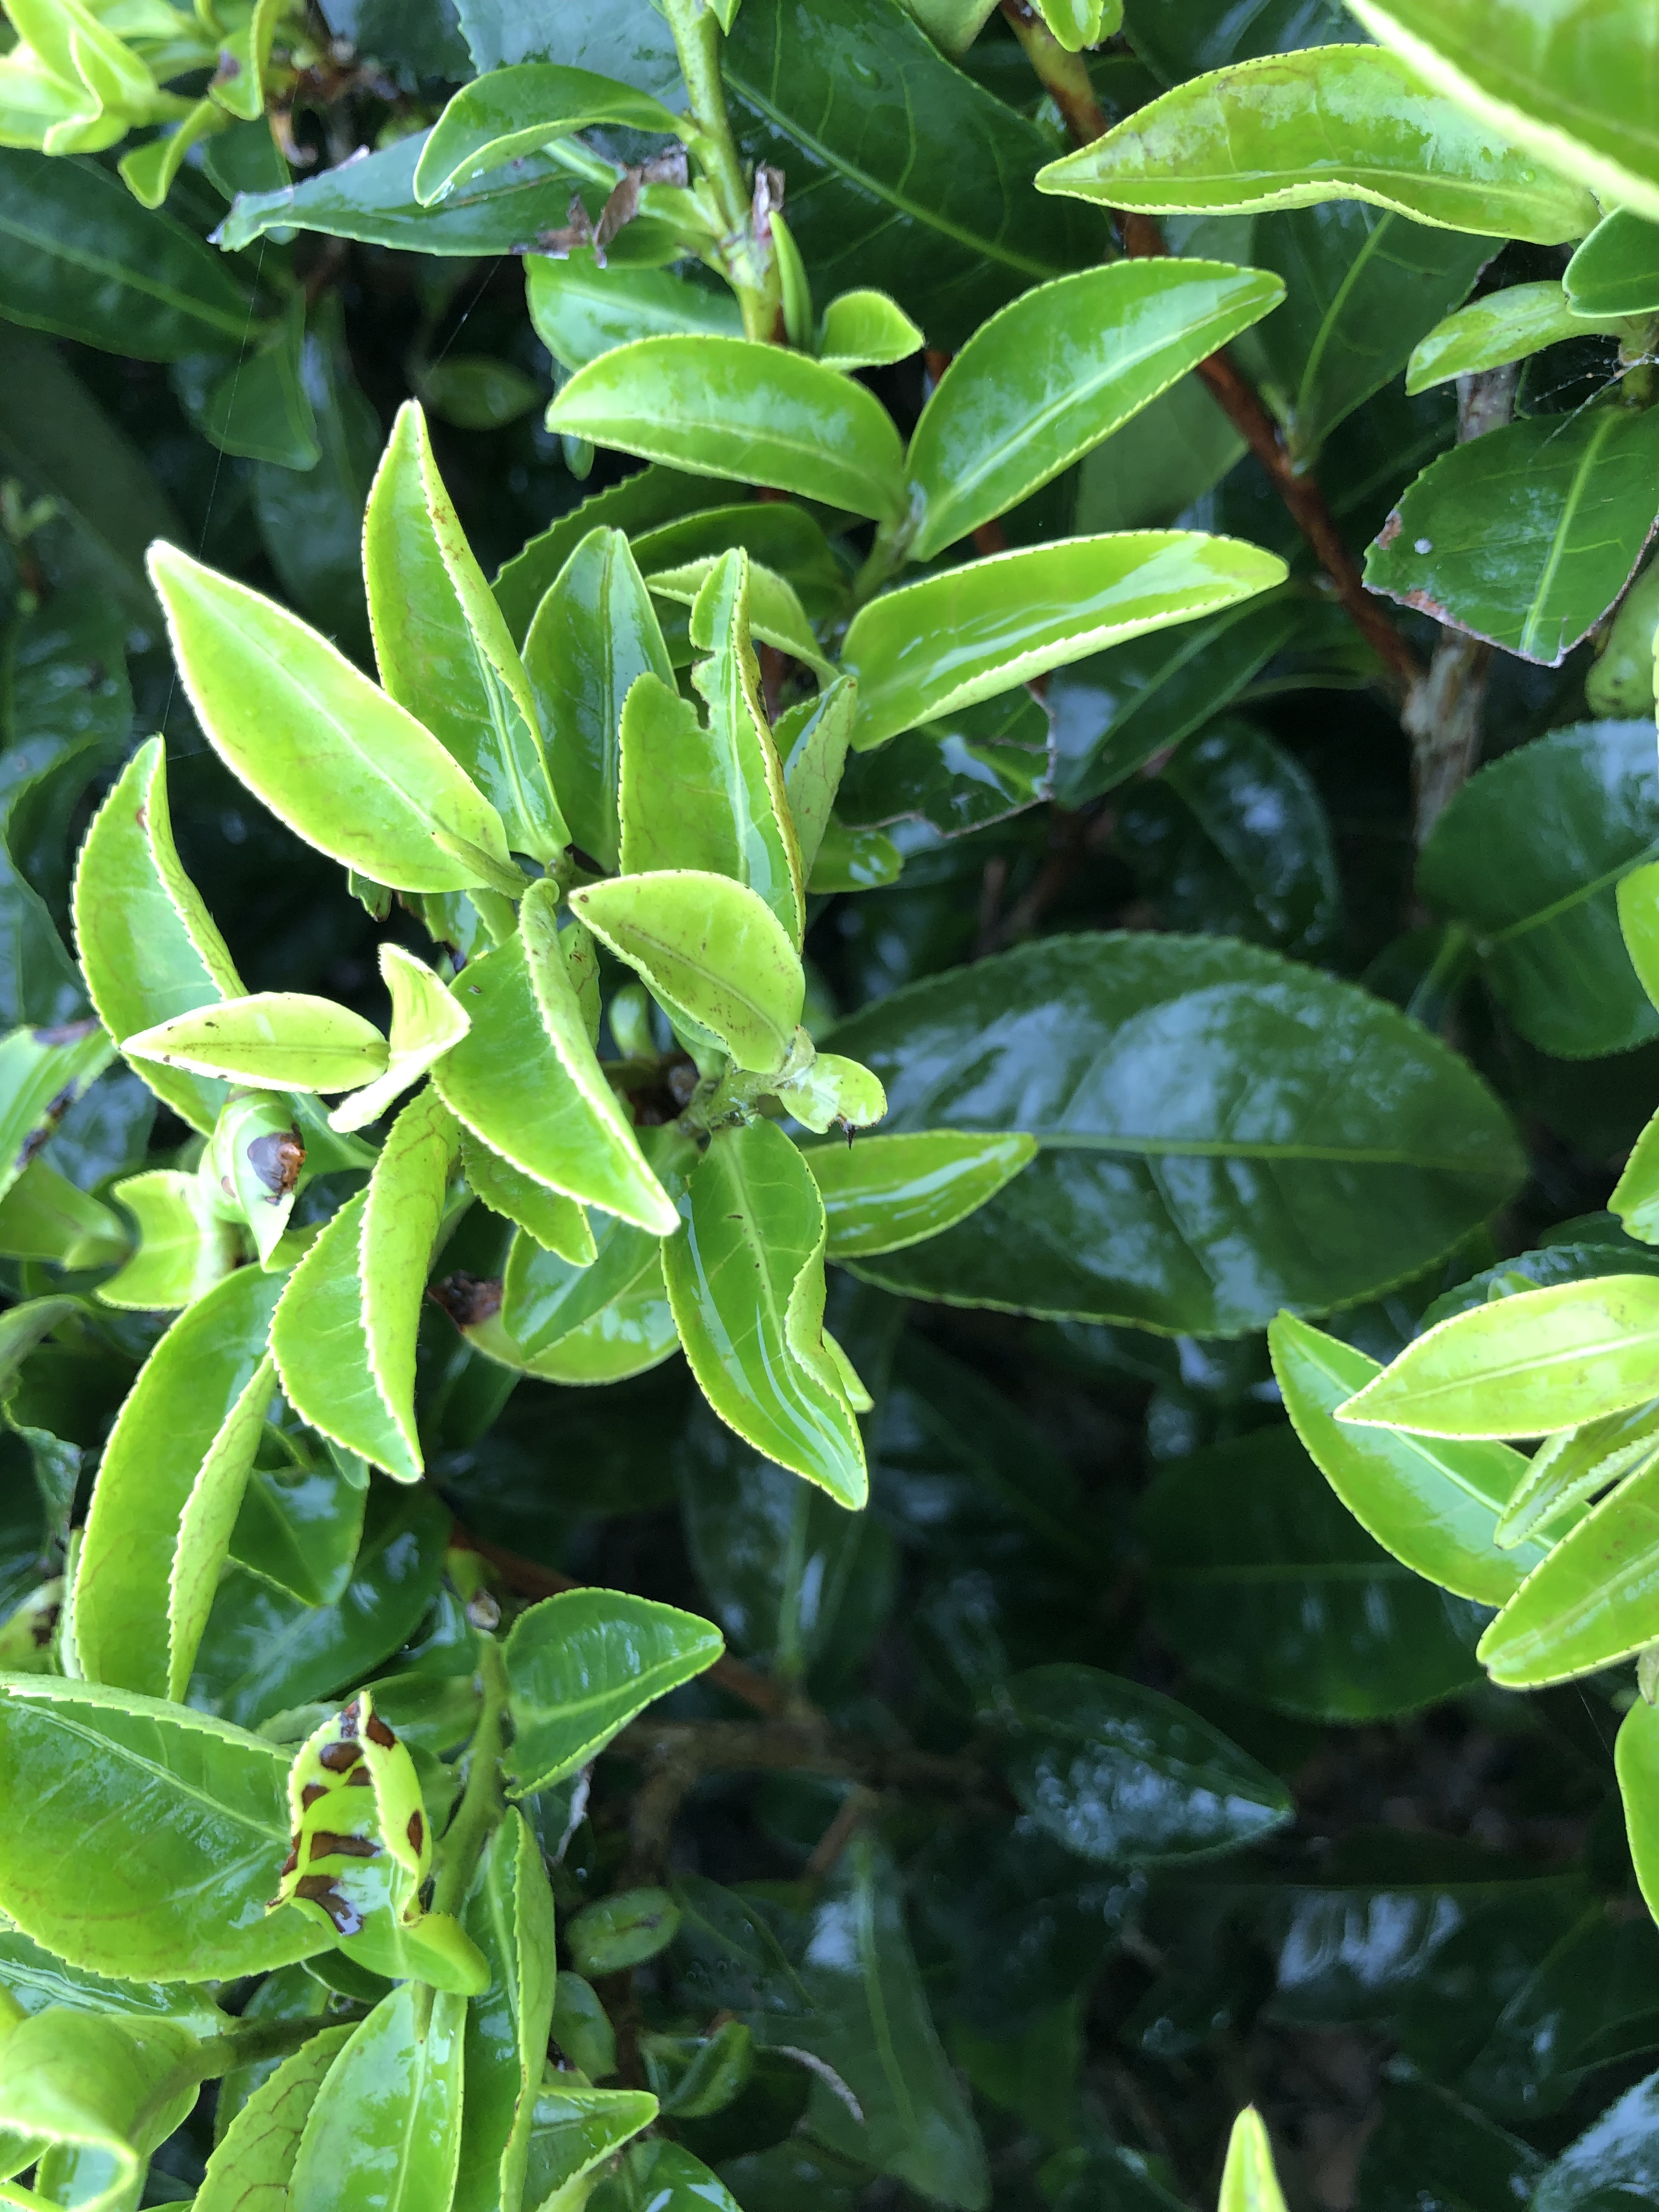formosa: (136, 521, 511, 888), (566, 866, 814, 1062), (1351, 1282, 1647, 1440)
fungi_early: (132, 981, 375, 1099)
mosquito_late: (258, 1688, 455, 1973)
other: (981, 1677, 1295, 1862)
